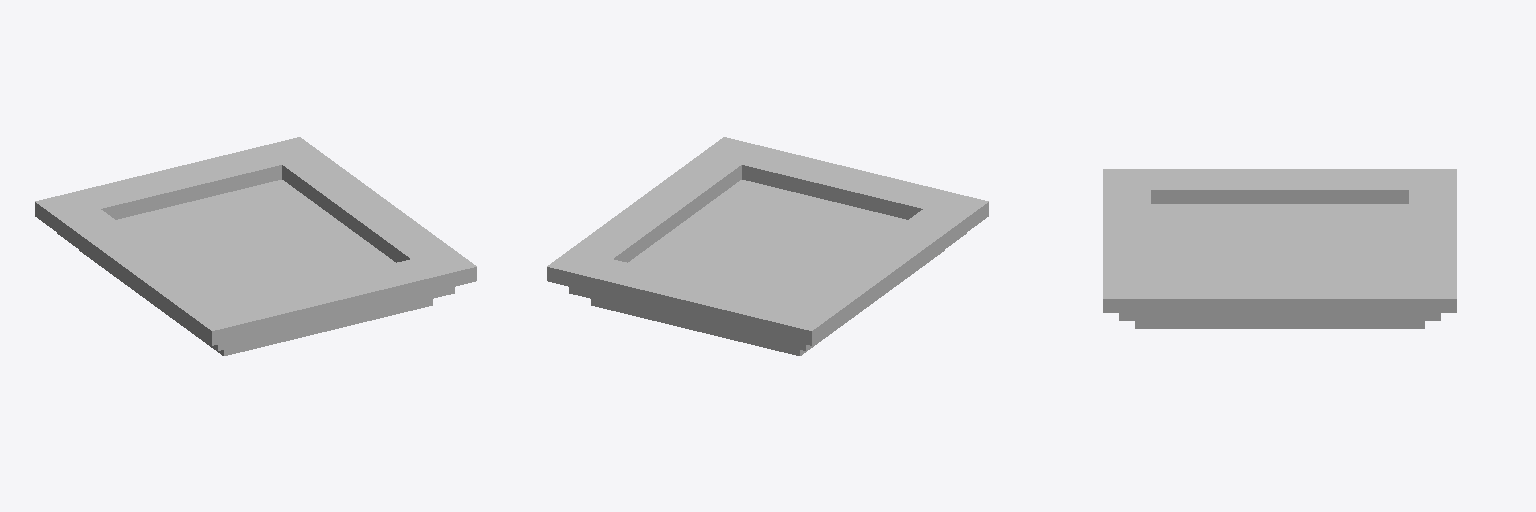
File: Picture.obj
The picture shows the model from 3 angles: view 1: azimuth 30°, elevation 25°; view 2: azimuth 150°, elevation 25°; view 3: azimuth 270°, elevation 25°; orthographic projection.
Visible parts, largest first — view 1: object 1; view 2: object 1; view 3: object 1.
Part boxes in pixels (bbox=[...]): object 1: bbox=[35, 137, 476, 355]; object 1: bbox=[547, 137, 988, 355]; object 1: bbox=[1103, 169, 1456, 328].
Size of the model in its own units: 1.9 by 0.3 by 2.2.